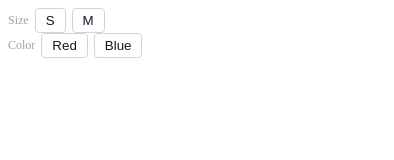
VariantSelector rendering › tells the visitor in plain words when the availability check fails (preview)
Click the button "S": (50, 20) [35,8,66,33]
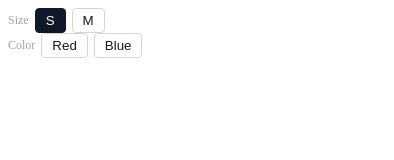
Click the button "Red": (65, 46) [41,33,88,58]
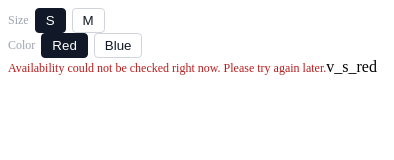
Expected: the message "Availability could not be checked right now. Please try again later." is shown, [8,61,326,75]
